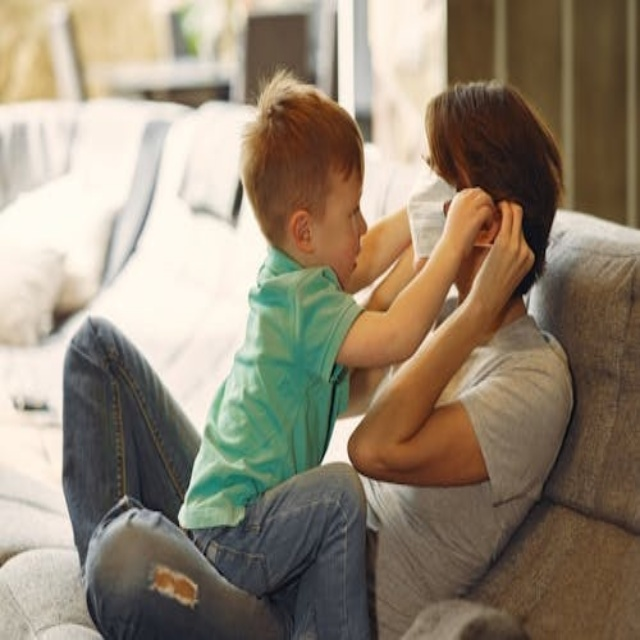Mascara: (408, 175, 460, 261)
Sin_gafas: (323, 192, 365, 227)
Sin_guantes: (462, 188, 539, 334), (434, 185, 498, 284)
Sin_mascara: (337, 238, 365, 279)
